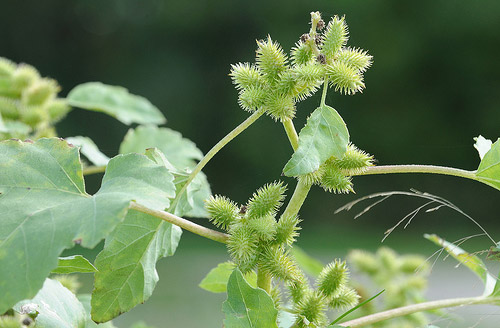Cocklebur: (210, 176, 359, 321), (231, 12, 376, 129)
